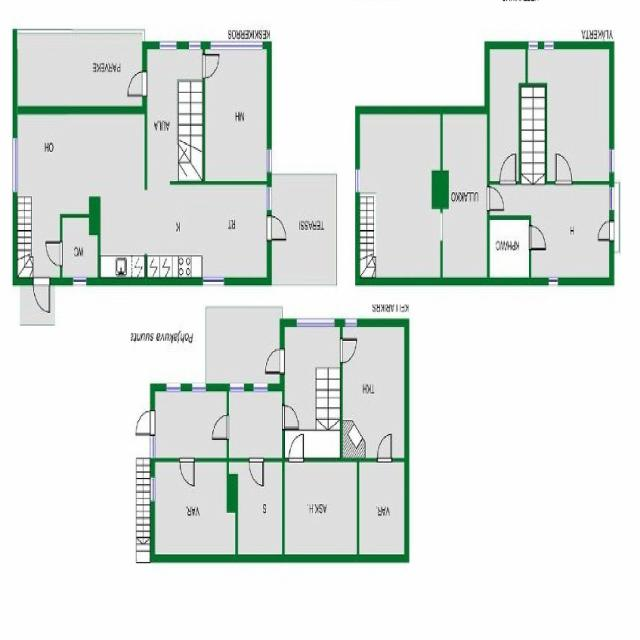door: (34, 277, 50, 313), (556, 152, 573, 185), (267, 216, 288, 241), (127, 72, 148, 96), (265, 349, 285, 374), (179, 459, 195, 490), (282, 404, 301, 430), (135, 411, 155, 435), (501, 154, 516, 185), (249, 459, 264, 489), (377, 434, 392, 464), (340, 339, 358, 364), (44, 242, 62, 267), (202, 54, 220, 78), (290, 434, 304, 464), (212, 416, 229, 440), (529, 226, 546, 250), (487, 187, 504, 210), (598, 222, 615, 240)
